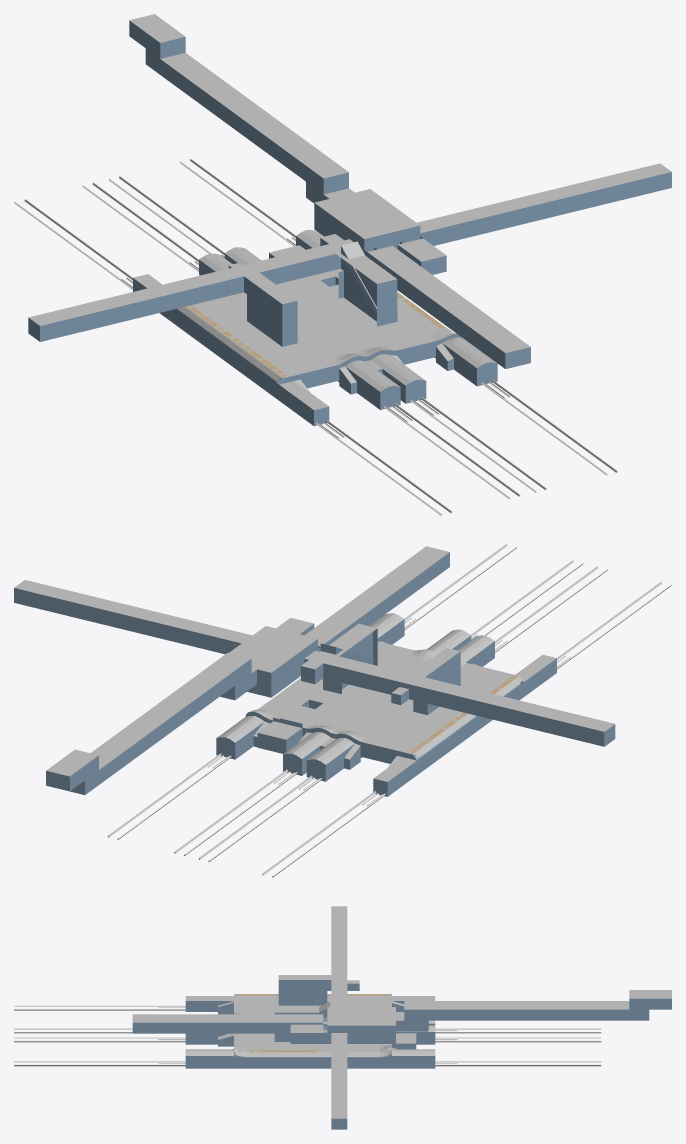
The model's file is level1.fbx.
3 views of the same model, one above another, from view 1: azimuth 30°, elevation 25°; view 2: azimuth 150°, elevation 25°; view 3: azimuth 270°, elevation 25° (orthographic). The views are drawn at different scales.
Visible parts, largest first — view 1: level1_Floor, level1_Wall, Cube.033, Cube.030, Cube.028, Cube.006, level1_Ceiling; view 2: level1_Floor, level1_Wall, Cube.033, Cube.028, Cube.030, Cube.006; view 3: level1_Floor, level1_Wall, Cube.006, Cube.028, Cube.030, Cube.033, level1_Ceiling.
Part boxes in pixels (x1,y1,x2,y2): level1_Floor: [28, 14, 671, 410]; level1_Wall: [28, 20, 671, 426]; Cube.033: [14, 199, 452, 515]; Cube.030: [82, 182, 520, 499]; Cube.028: [179, 159, 617, 475]; Cube.006: [108, 176, 546, 492]; level1_Ceiling: [186, 292, 445, 377]; level1_Floor: [14, 546, 614, 781]; level1_Wall: [14, 552, 615, 796]; Cube.033: [262, 582, 671, 877]; Cube.028: [107, 544, 516, 839]; Cube.030: [198, 566, 608, 861]; Cube.006: [174, 560, 583, 855]; level1_Floor: [132, 906, 671, 1118]; level1_Wall: [132, 980, 671, 1129]; Cube.006: [14, 1037, 601, 1042]; Cube.028: [14, 1061, 601, 1066]; Cube.030: [14, 1028, 601, 1033]; Cube.033: [14, 1005, 185, 1010]; level1_Ceiling: [235, 994, 391, 1052].
Size of the model in its own units: 12400 by 2002 by 16240.
